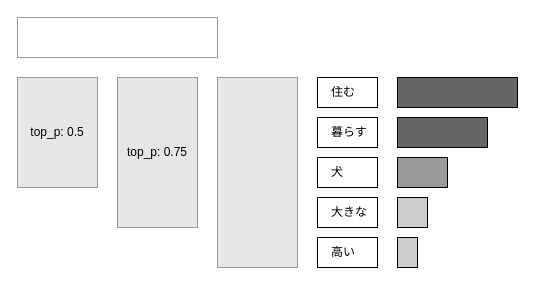
Image size: 535x285. Some labels were removed from this diagram. Each missing label, with the centre of its shape:
"top_p: 1.0" belongs at [257,172].
"「大きな家に」に続く語を選ぶ" belongs at [117,37].
"確率" belongs at [457,92].
